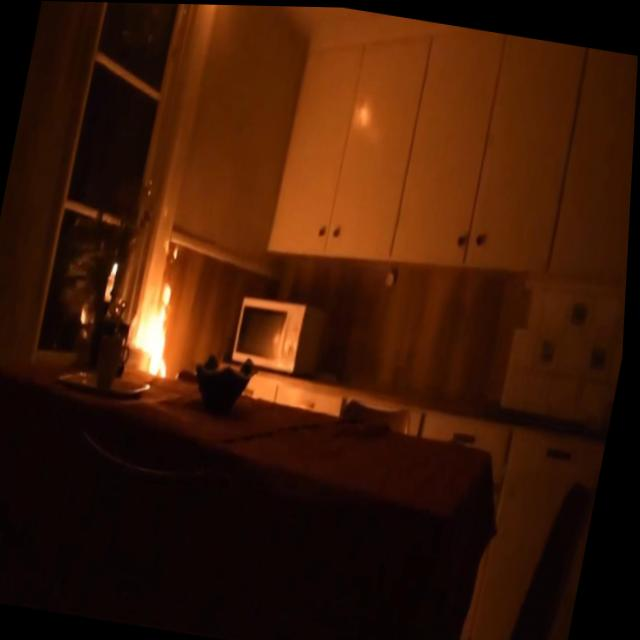fire: (126, 266, 197, 387), (112, 257, 123, 279)
